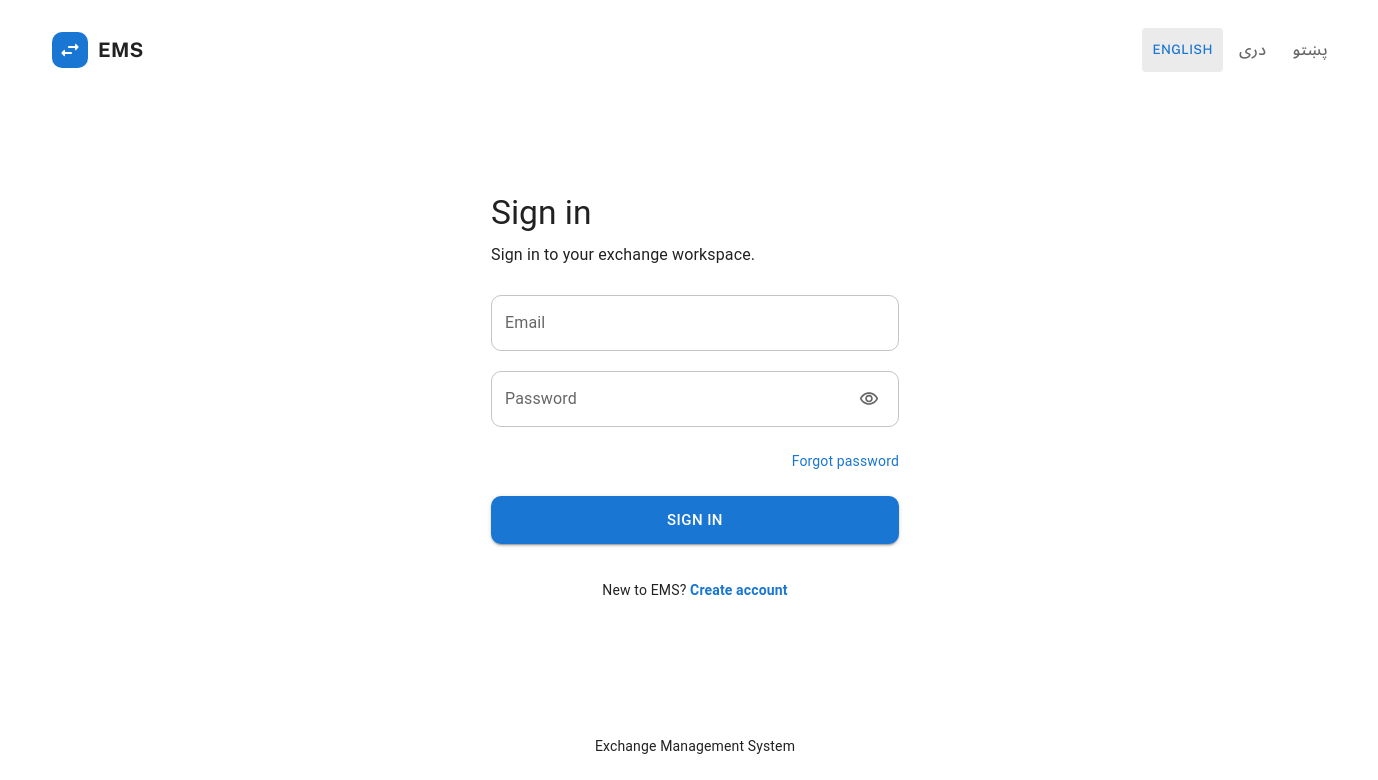
Test: login bootstraps /auth/me and permits users without an organization
Step 1. Type "user@example.com" into the field labelled "Email" → (695, 323), box [491,295,899,351]
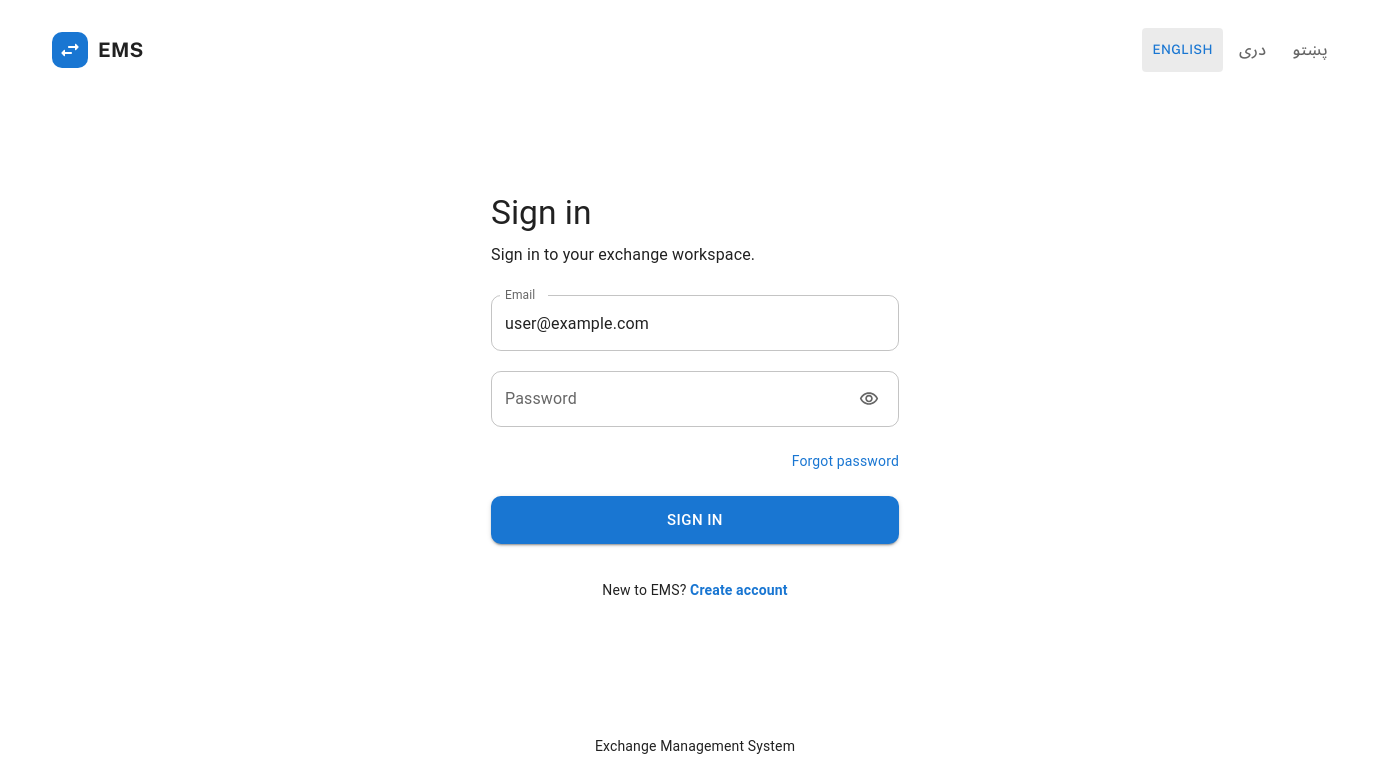
Step 2. Type "password123" into the password field labelled "Password" → (665, 399), box [491,371,839,427]
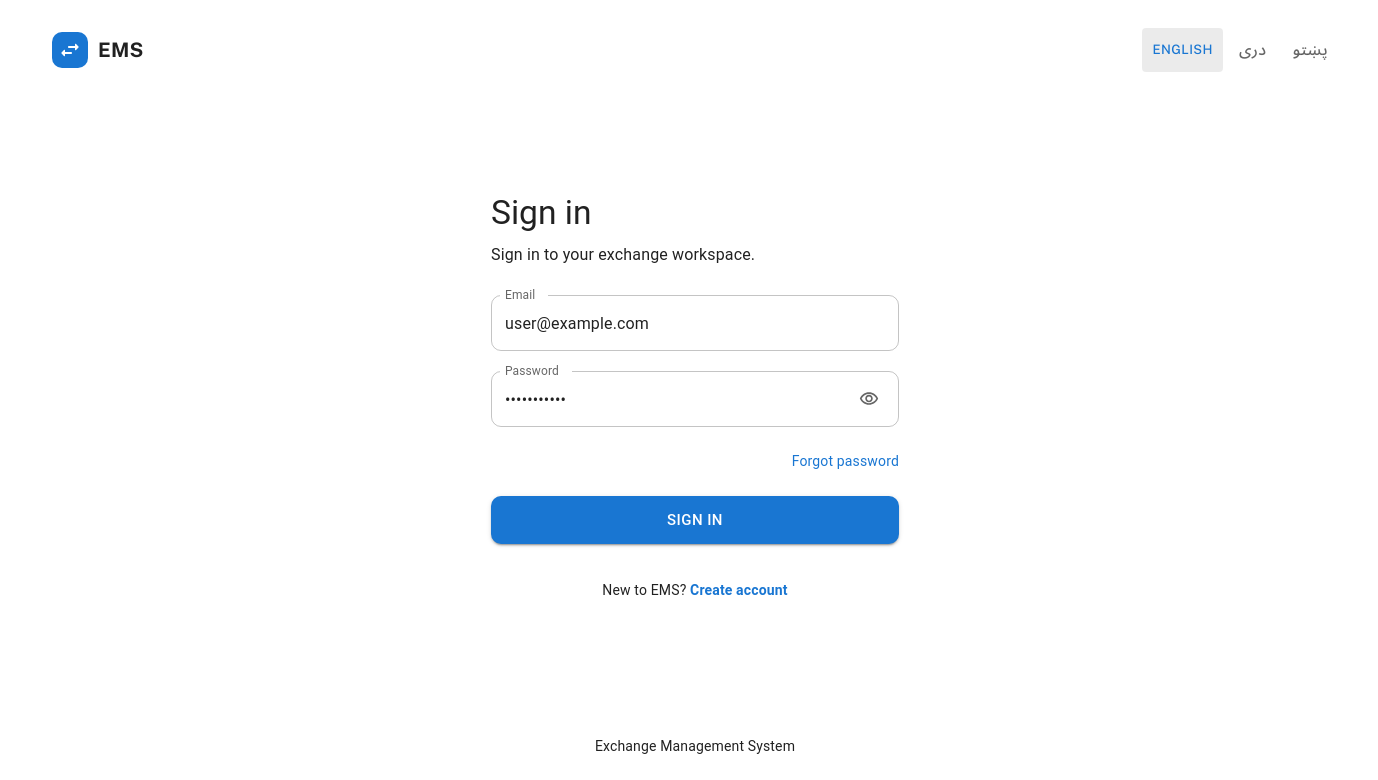
Step 3. Click the button "Sign in" → (695, 520), box [491,496,899,544]
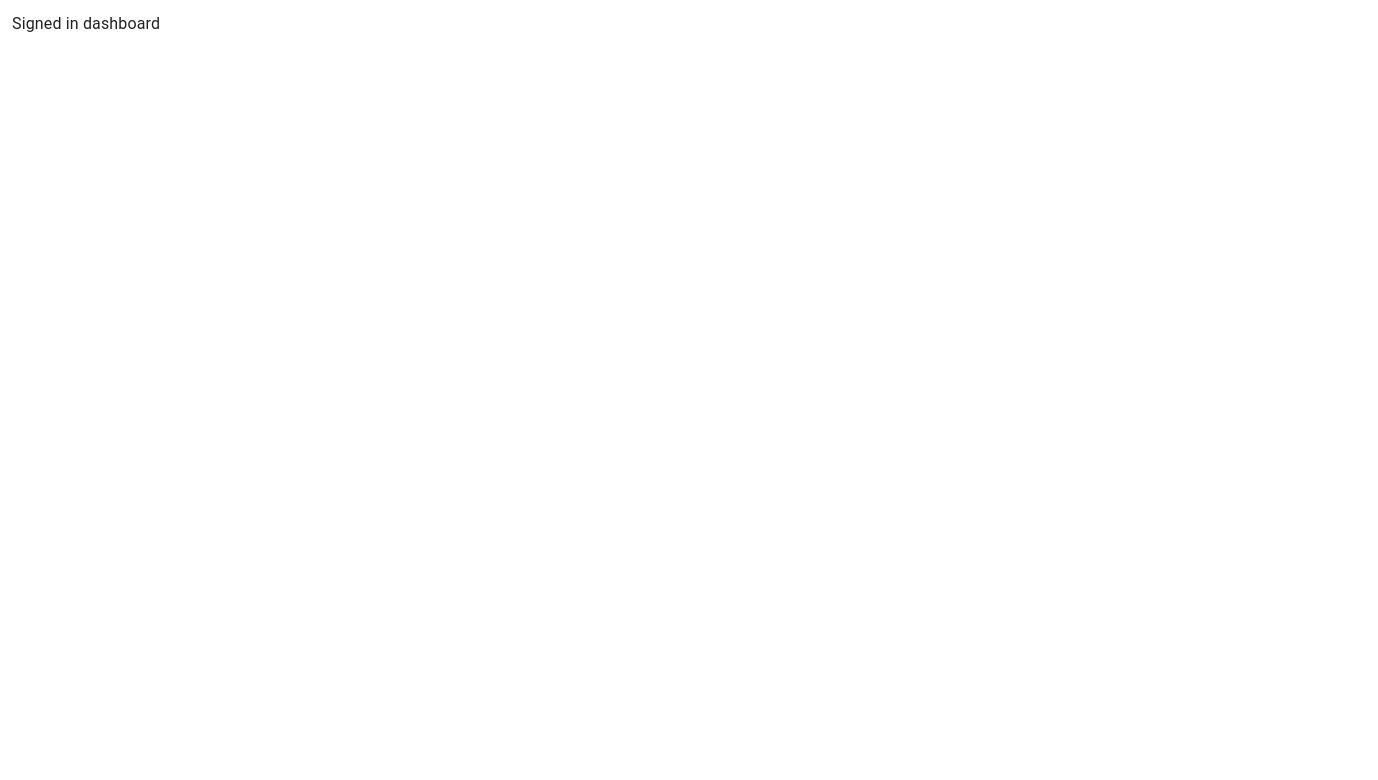
Expected: the text "Signed in dashboard" is shown, [12,14,160,33]
